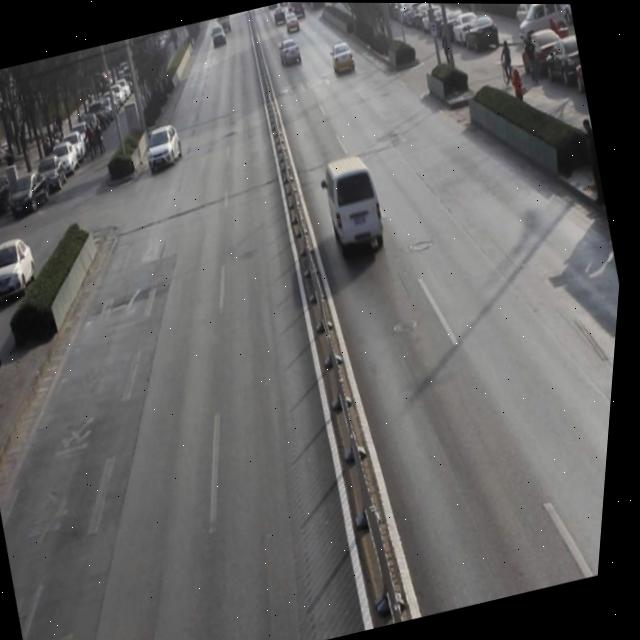car: (144, 123, 191, 175), (329, 40, 363, 84), (276, 39, 308, 75)
truck: (315, 156, 400, 269)
